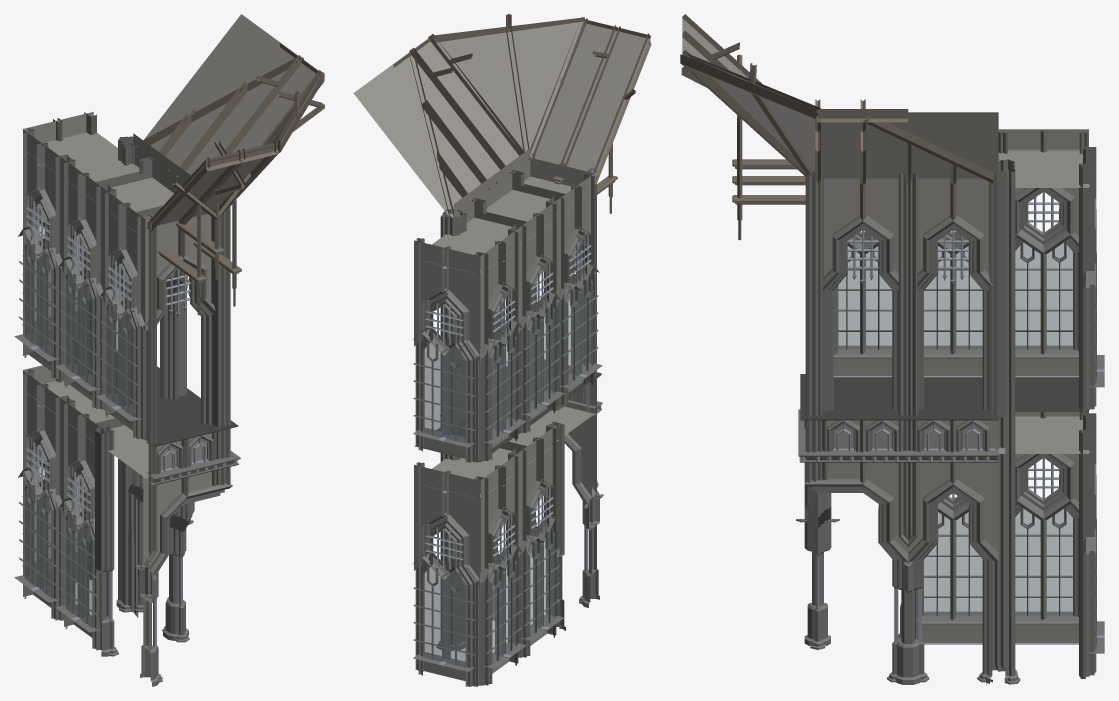
Rendered from Corner_Tile_01.fbx.
The picture shows the model from 3 angles, left to right: view 1: azimuth 30°, elevation 25°; view 2: azimuth 150°, elevation 25°; view 3: azimuth 270°, elevation 25°; orthographic projection. The views are drawn at different scales.
Parts seen in each view (by area): view 1: pCube469, polySurface627, polySurface361, pCube405, polySurface366, polySurface359, polySurface336, polySurface278, polySurface388, polySurface324, polySurface379, polySurface368 (+48 smaller); view 2: pCube541, pCube342, pCube469, pCube405, pCube572, pCube519, polySurface447, polySurface393, polySurface412, polySurface388, polySurface379, polySurface627 (+57 smaller); view 3: polySurface412, polySurface627, polySurface368, polySurface361, pCube469, polySurface343, pCube382, pCube405, polySurface307, polySurface360, pCube426, polySurface370 (+48 smaller).
Boxes of the visible parts, x1,y1,x2,y2 form: pCube469: (144, 14, 281, 166); polySurface627: (136, 439, 232, 686); polySurface361: (211, 206, 230, 485); pCube405: (186, 44, 318, 175); polySurface366: (95, 427, 118, 656); polySurface359: (148, 216, 156, 562); polySurface336: (99, 247, 148, 439); polySurface278: (146, 254, 215, 424); polySurface388: (18, 187, 63, 379); polySurface324: (59, 217, 104, 409); polySurface379: (18, 428, 63, 620); polySurface368: (128, 469, 192, 637); pCube541: (436, 21, 583, 157); pCube342: (531, 23, 651, 178); pCube469: (353, 65, 480, 217); pCube405: (391, 38, 518, 179); pCube572: (414, 465, 479, 586); pCube519: (414, 240, 479, 362); polySurface447: (412, 512, 482, 686); polySurface393: (413, 288, 482, 462); polySurface412: (437, 211, 466, 650); polySurface388: (476, 282, 522, 462); polySurface379: (476, 507, 522, 686); polySurface627: (556, 404, 603, 607); polySurface412: (992, 159, 1020, 684); polySurface627: (796, 420, 908, 684); polySurface368: (908, 420, 998, 685); polySurface361: (805, 172, 823, 482); pCube469: (908, 112, 998, 178); polySurface343: (822, 215, 898, 411); pCube382: (908, 420, 998, 552); pCube405: (818, 112, 908, 178); polySurface307: (917, 215, 993, 411); polySurface360: (898, 173, 908, 546); pCube426: (824, 179, 898, 276); polySurface370: (908, 173, 917, 546).
Bounding box in the file's own units: 10.74 × 31.81 × 18.8.
